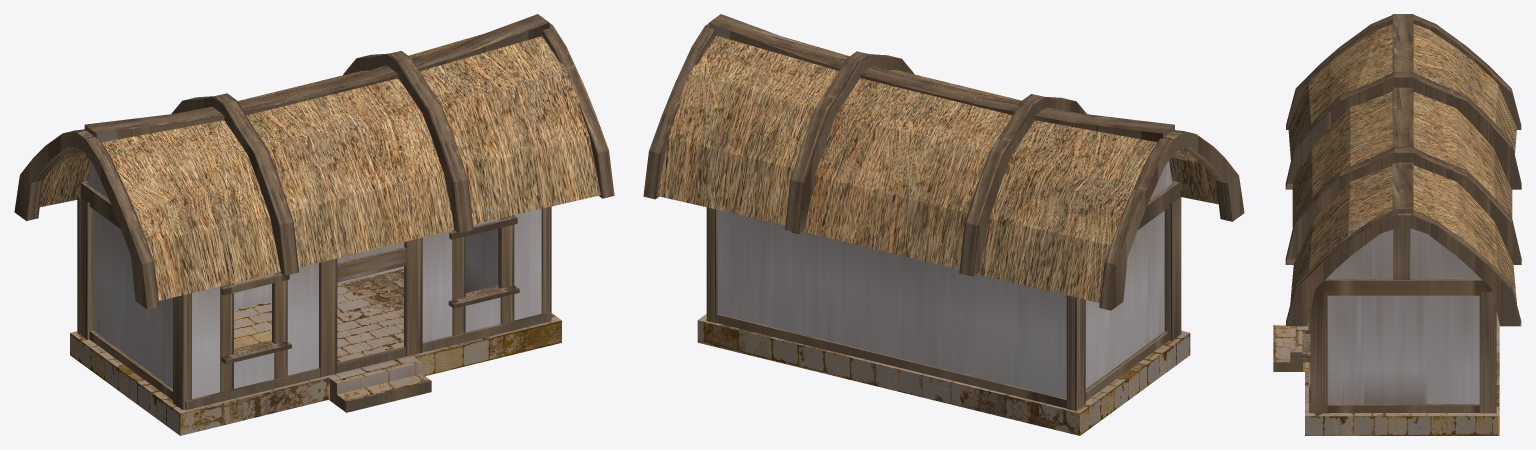
The model's file is medieval house.fbx.
3 renders of one model, left to right at view 1: azimuth 30°, elevation 25°; view 2: azimuth 150°, elevation 25°; view 3: azimuth 270°, elevation 25°, orthographic. The views are drawn at different scales.
Parts seen in each view (by area): view 1: house_Cube.026; view 2: house_Cube.026; view 3: house_Cube.026.
Part boxes in pixels (x1,y1,x2,y2): house_Cube.026: (14, 14, 614, 435); house_Cube.026: (643, 14, 1244, 435); house_Cube.026: (1273, 14, 1521, 435).
Size of the model in its own units: 620 by 348 by 323.
